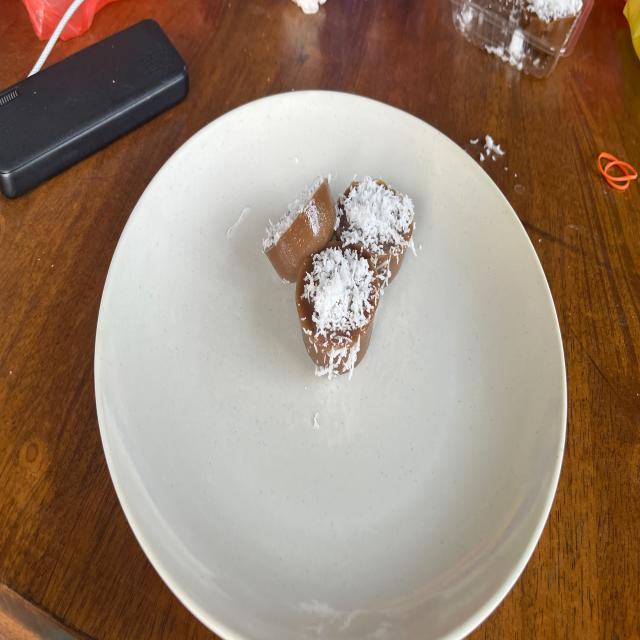Kuih lompang: (296, 242, 380, 378), (335, 176, 414, 289), (262, 176, 336, 282)
